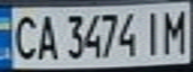3: (60, 10, 84, 60)
4: (115, 9, 142, 58), (81, 11, 103, 60)
7: (100, 10, 121, 58)
A: (33, 10, 60, 62)
C: (6, 11, 39, 61)
I: (139, 7, 166, 56)
M: (160, 6, 190, 54)
